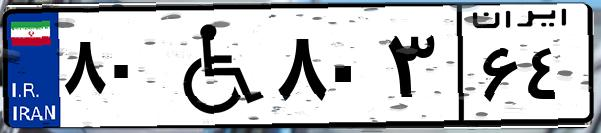0: (330, 28, 385, 110), (110, 28, 158, 98)
3: (385, 28, 445, 110)
4: (525, 38, 570, 115)
6: (475, 38, 525, 113)
8: (270, 28, 330, 110), (57, 26, 110, 100)
ژ (معلولین و جانبازان): (158, 12, 270, 120)
